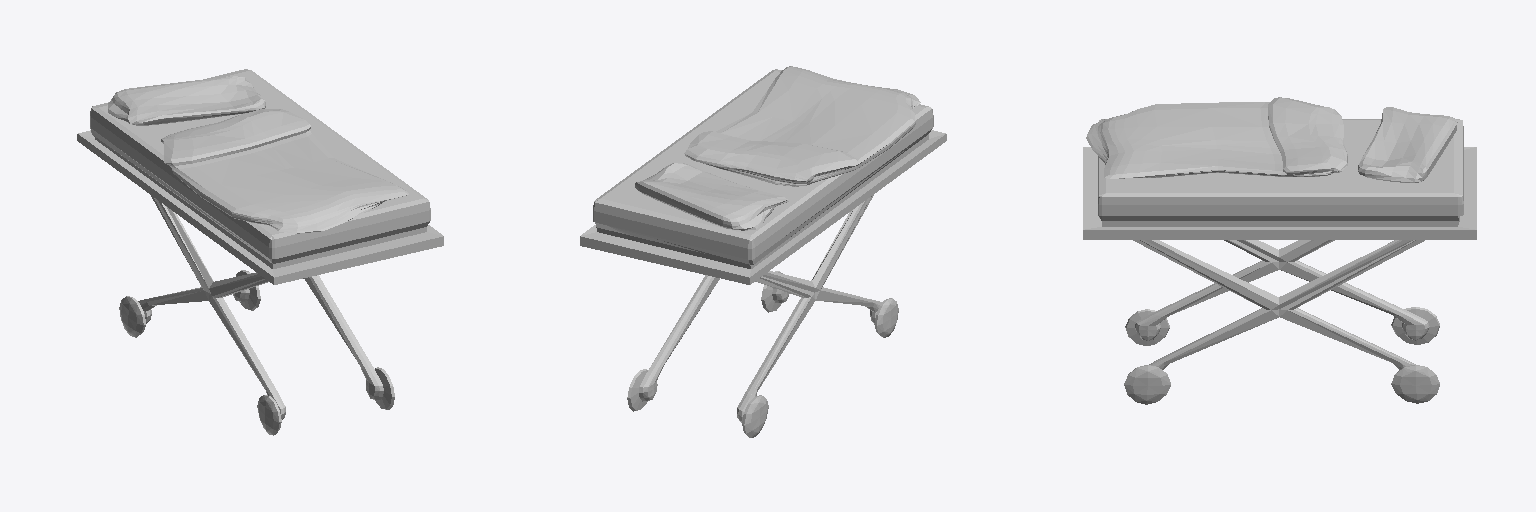
Rendered from Krankenbett1.obj.
The picture shows the model from 3 angles: view 1: azimuth 30°, elevation 25°; view 2: azimuth 150°, elevation 25°; view 3: azimuth 270°, elevation 25°; orthographic projection.
Visible parts, largest first — view 1: pCube1, pCube3, pCube2; view 2: pCube1, pCube3, pCube2; view 3: pCube1, pCube3, pCube2.
Boxes of the visible parts, x1,y1,x2,y2 form: pCube1: [77, 69, 443, 435]; pCube3: [161, 109, 408, 233]; pCube2: [108, 76, 265, 125]; pCube1: [580, 69, 946, 437]; pCube3: [684, 66, 920, 186]; pCube2: [635, 163, 788, 230]; pCube1: [1083, 119, 1476, 404]; pCube3: [1086, 97, 1347, 178]; pCube2: [1358, 107, 1457, 182].
Size of the model in its own units: 6.8 by 8.61 by 12.9.